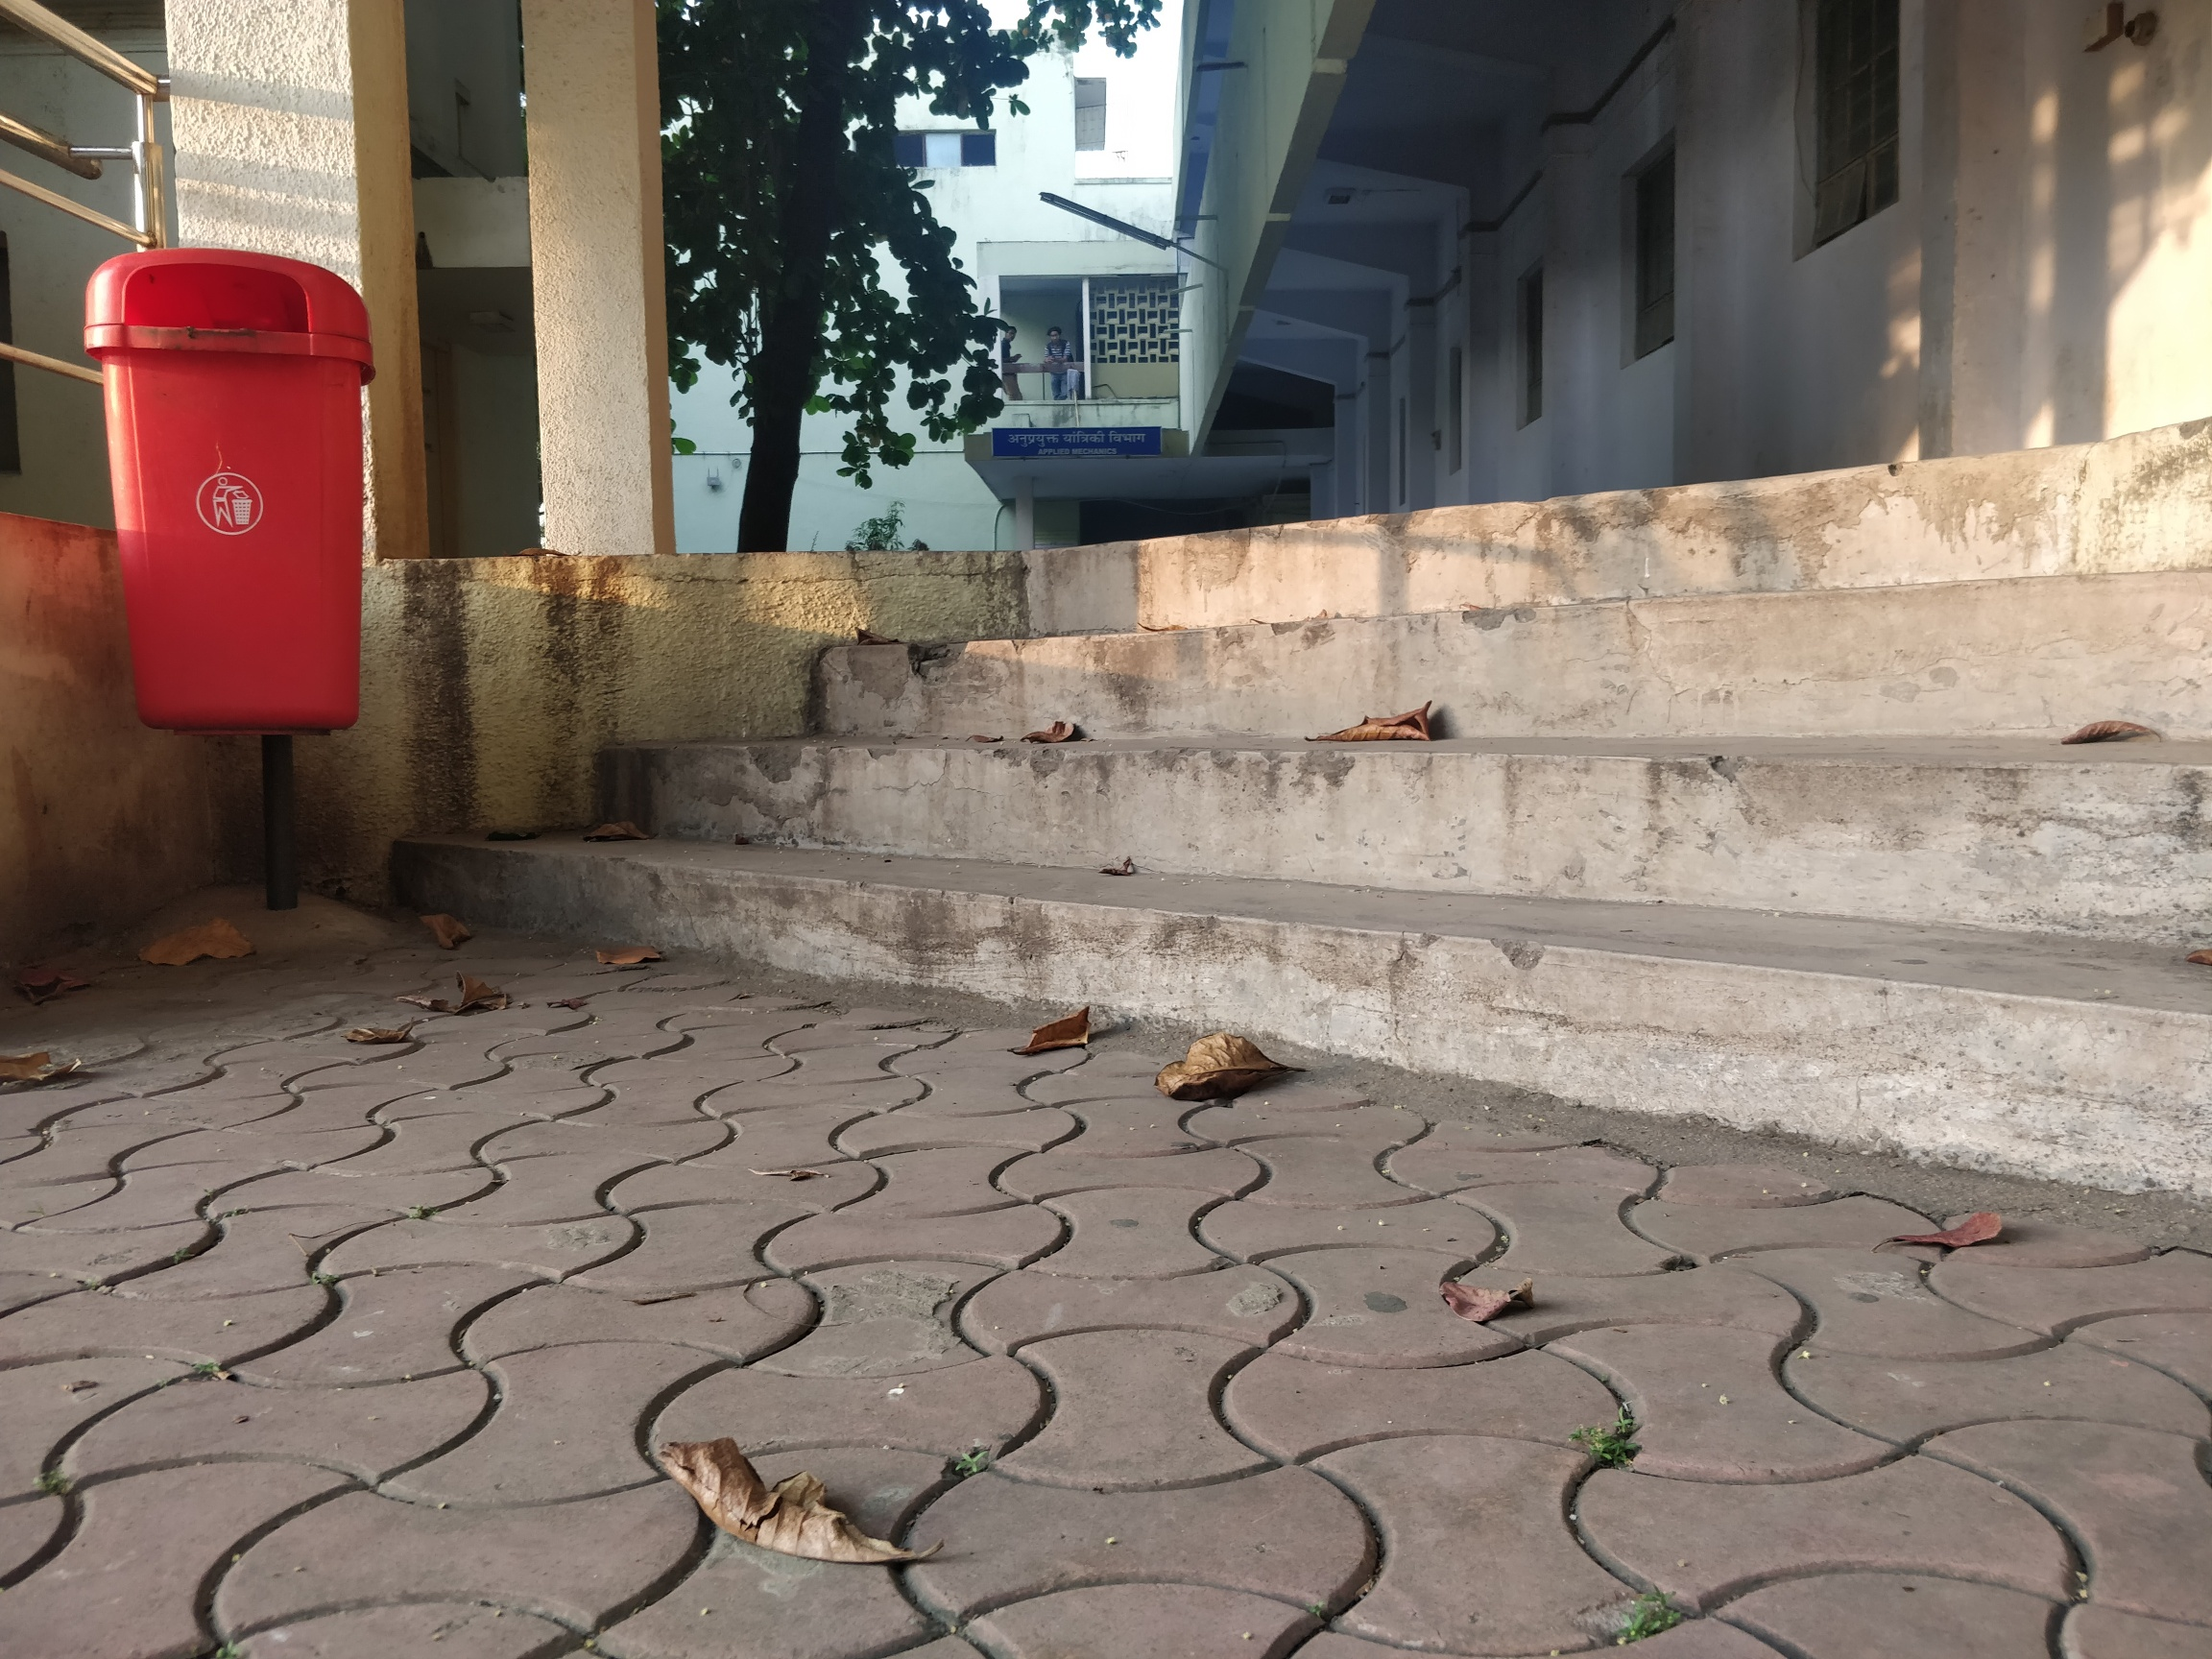stairs_up: (390, 406, 2209, 1126)
